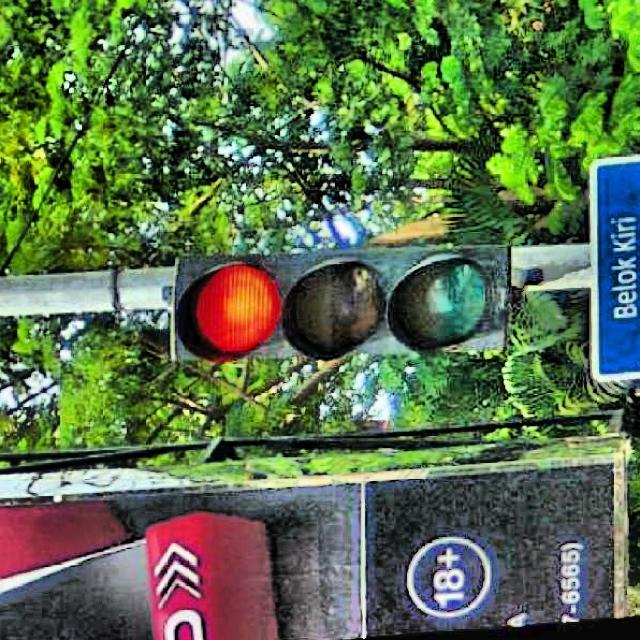red: (173, 231, 516, 362)
